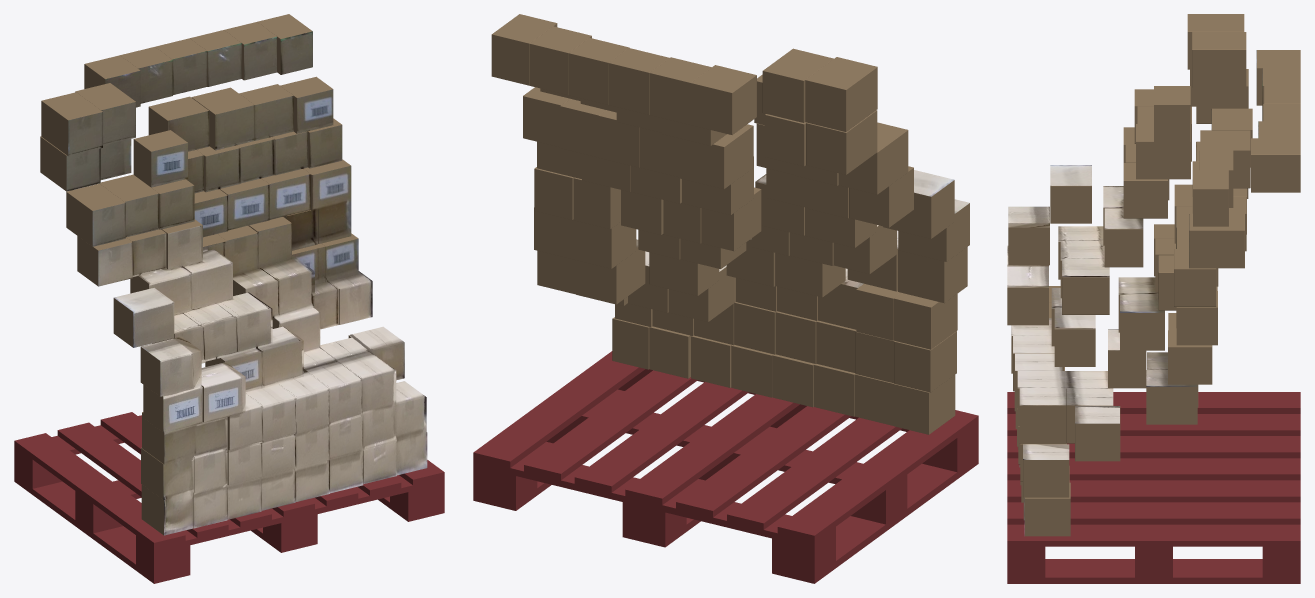
File: observed_cartons.glb
3 renders of one model, left to right at view 1: azimuth 30°, elevation 25°; view 2: azimuth 150°, elevation 25°; view 3: azimuth 270°, elevation 25°, orthographic. The views are drawn at different scales.
Parts seen in each view (by area): view 1: Pallet_deck_board_0, OBS_A1, OBS_F1, OBS_E1, OBS_C1, Pallet_deck_board_1, Pallet_runner_0, OBS_B3, OBS_B5, Pallet_cross_bearer_0, OBS_B4, OBS_G2 (+77 smaller); view 2: Pallet_deck_board_0, Pallet_deck_board_1, Pallet_deck_board_2, Pallet_deck_board_3, Pallet_deck_board_4, Pallet_deck_board_6, Pallet_deck_board_5, OBS_A1, OBS_A3, Pallet_runner_0, Pallet_cross_bearer_2, OBS_C4 (+77 smaller); view 3: Pallet_deck_board_6, Pallet_deck_board_5, Pallet_deck_board_4, Pallet_deck_board_3, Pallet_runner_2, Pallet_deck_board_2, Pallet_deck_board_1, Pallet_deck_board_0, OBS_A2, OBS_A8, OBS_I7, OBS_C8 (+48 smaller).
Boxes of the visible parts, <box> form: Pallet_deck_board_0: <box>14,433,185,548</box>; OBS_A1: <box>41,92,102,156</box>; OBS_F1: <box>140,336,201,396</box>; OBS_E1: <box>113,287,174,347</box>; OBS_C1: <box>66,183,125,246</box>; Pallet_deck_board_1: <box>57,422,228,537</box>; Pallet_runner_0: <box>14,476,190,583</box>; OBS_B3: <box>133,130,187,187</box>; OBS_B5: <box>191,87,254,150</box>; Pallet_cross_bearer_0: <box>136,475,444,552</box>; OBS_B4: <box>148,96,209,151</box>; OBS_G2: <box>201,362,245,422</box>; Pallet_deck_board_0: <box>777,410,978,542</box>; Pallet_deck_board_1: <box>727,417,901,529</box>; Pallet_deck_board_2: <box>676,406,851,517</box>; Pallet_deck_board_3: <box>625,394,799,504</box>; Pallet_deck_board_4: <box>574,382,748,492</box>; Pallet_deck_board_6: <box>473,351,645,467</box>; Pallet_deck_board_5: <box>524,370,697,480</box>; OBS_A1: <box>805,57,877,131</box>; OBS_A3: <box>690,65,756,134</box>; Pallet_runner_0: <box>772,457,978,583</box>; Pallet_cross_bearer_2: <box>473,452,835,547</box>; OBS_C4: <box>679,124,753,188</box>; Pallet_deck_board_6: <box>1007,524,1300,546</box>; Pallet_deck_board_5: <box>1007,502,1300,524</box>; Pallet_deck_board_4: <box>1007,480,1300,502</box>; Pallet_deck_board_3: <box>1007,458,1300,480</box>; Pallet_runner_2: <box>1007,559,1300,583</box>; Pallet_deck_board_2: <box>1007,436,1300,458</box>; Pallet_deck_board_1: <box>1007,414,1300,435</box>; Pallet_deck_board_0: <box>1007,392,1300,413</box>; OBS_A2: <box>1192,32,1246,87</box>; OBS_A8: <box>1251,138,1300,192</box>; OBS_I7: <box>1019,388,1066,443</box>; OBS_C8: <box>1189,213,1244,268</box>.
Bounding box in the file's own units: 1.2 × 1.58 × 1.
Materials: 3 (1 with a texture image).
